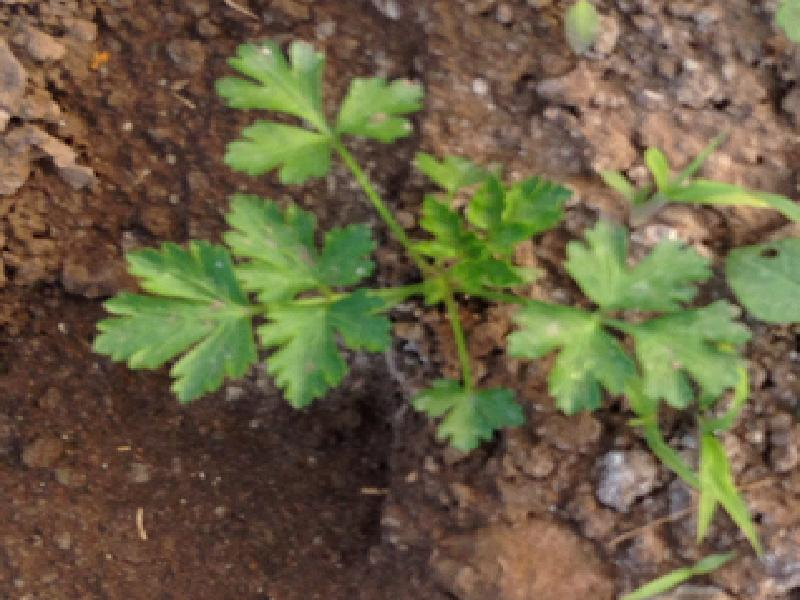radish: (0, 42, 790, 600)
